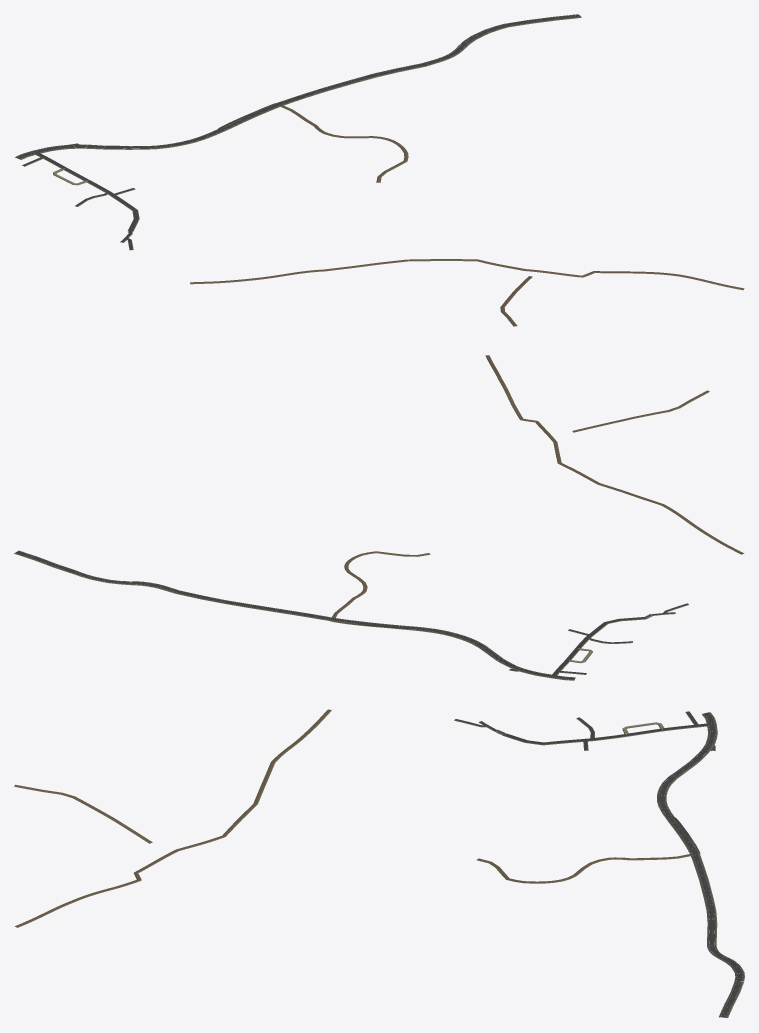
The picture shows the model from 3 angles, top to bottom: view 1: azimuth 30°, elevation 25°; view 2: azimuth 150°, elevation 25°; view 3: azimuth 270°, elevation 25°; orthographic projection. The views are drawn at different scales.
Parts seen in each view (by area): view 1: roads; view 2: roads; view 3: roads.
Boxes of the visible parts, left/top/right/bottom form: roads: left=15, top=14, right=744, bottom=326; roads: left=14, top=355, right=744, bottom=680; roads: left=14, top=709, right=744, bottom=1017.
Size of the model in its own units: 796 by 42.28 by 807.
